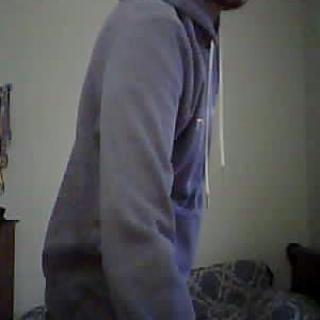Blue Hoodie: (44, 0, 222, 316)
